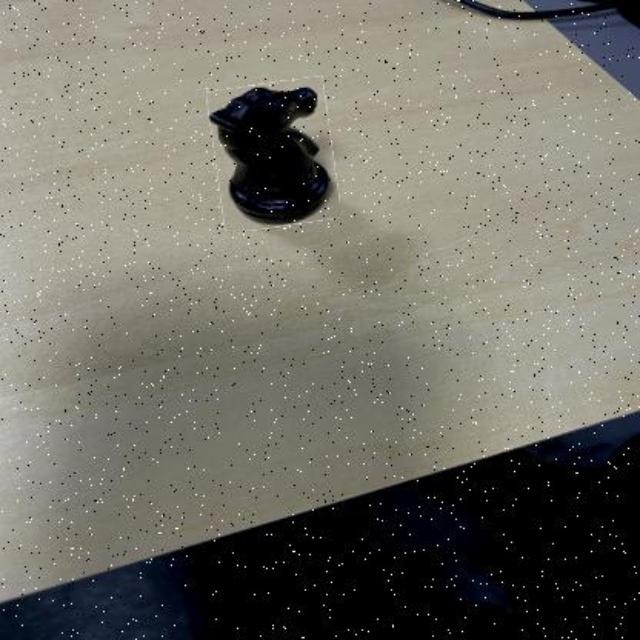black-knight: (211, 80, 337, 230)
